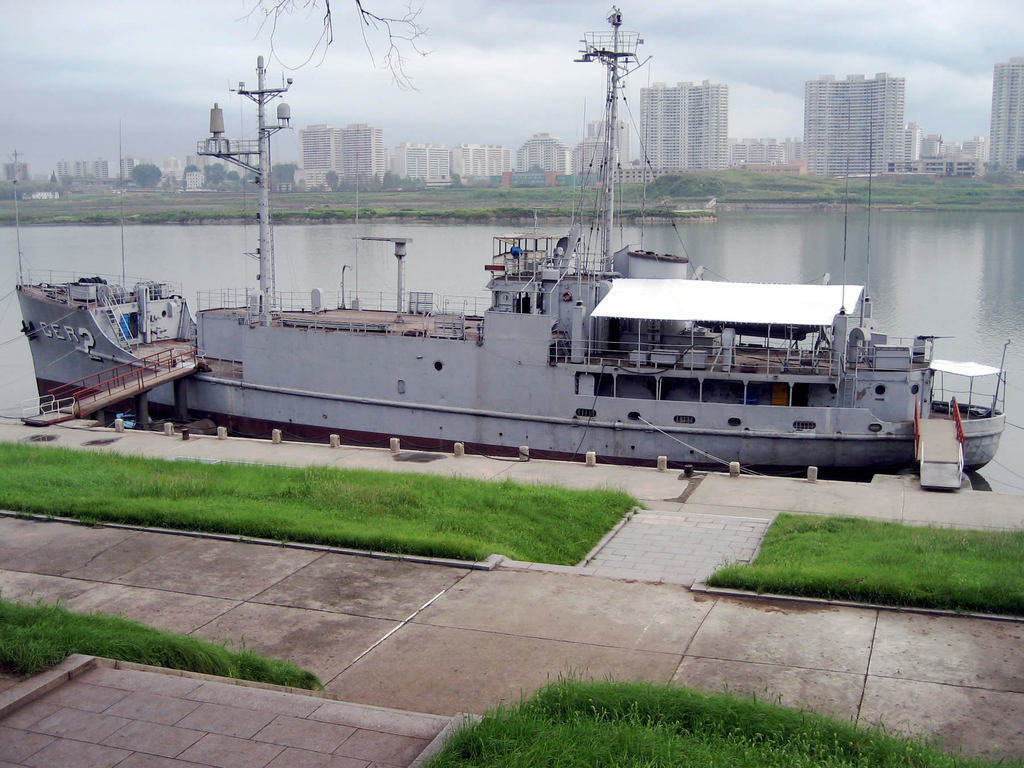boat: (13, 230, 1011, 489)
